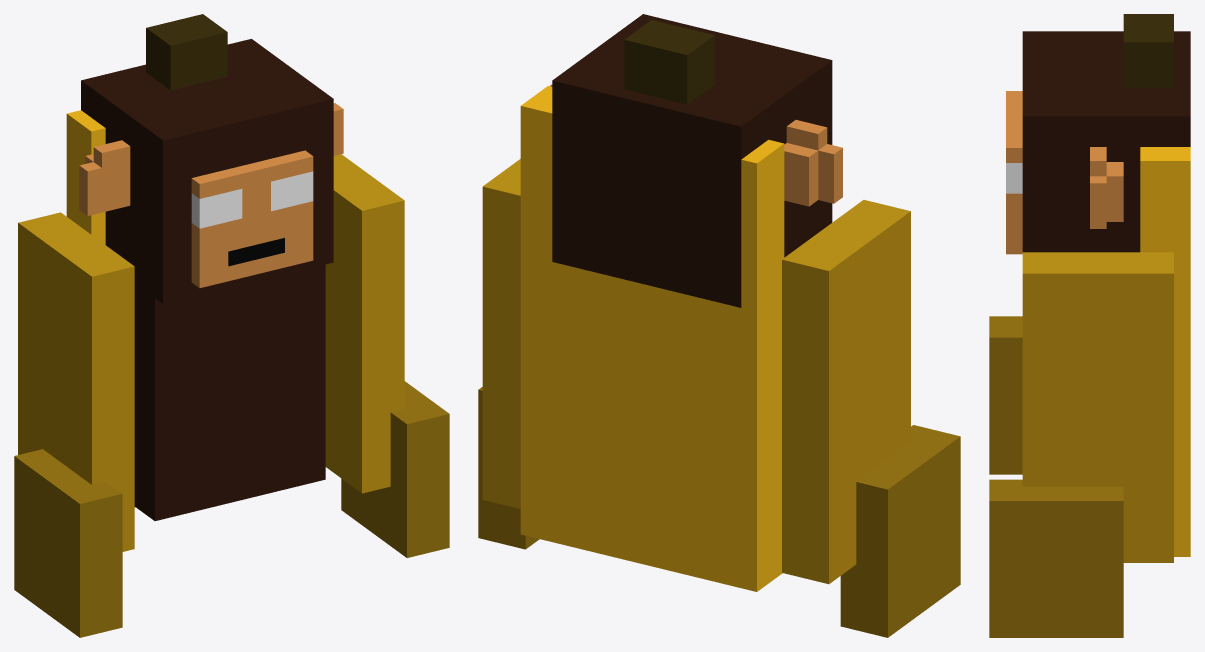
The model's file is chimpanzini_bananini.glb.
The picture shows the model from 3 angles, left to right: view 1: azimuth 30°, elevation 25°; view 2: azimuth 150°, elevation 25°; view 3: azimuth 270°, elevation 25°; orthographic projection. The views are drawn at different scales.
Parts seen in each view (by area): view 1: brainrot; view 2: brainrot; view 3: brainrot.
Boxes of the visible parts, <box> form: brainrot: <box>14,14,449,637</box>; brainrot: <box>478,14,960,637</box>; brainrot: <box>989,14,1190,637</box>.
Size of the model in its own units: 3.82 by 5 by 1.76.
Materials: 1 (1 with a texture image).
